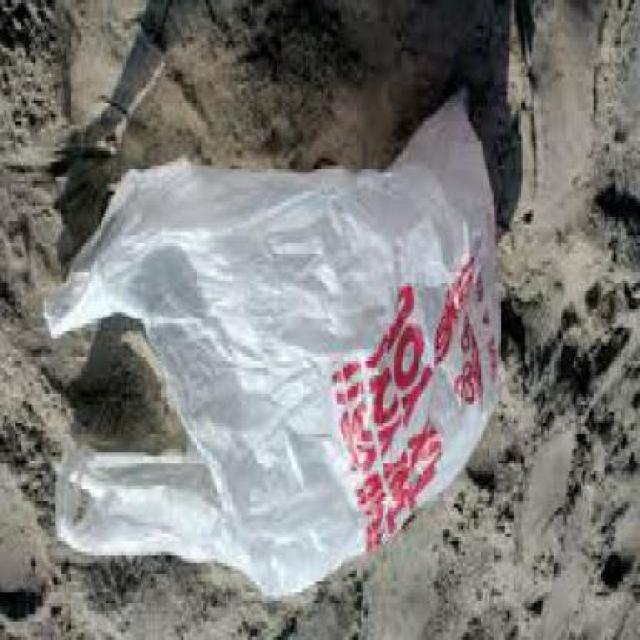PLASTIC: (44, 88, 505, 602)
